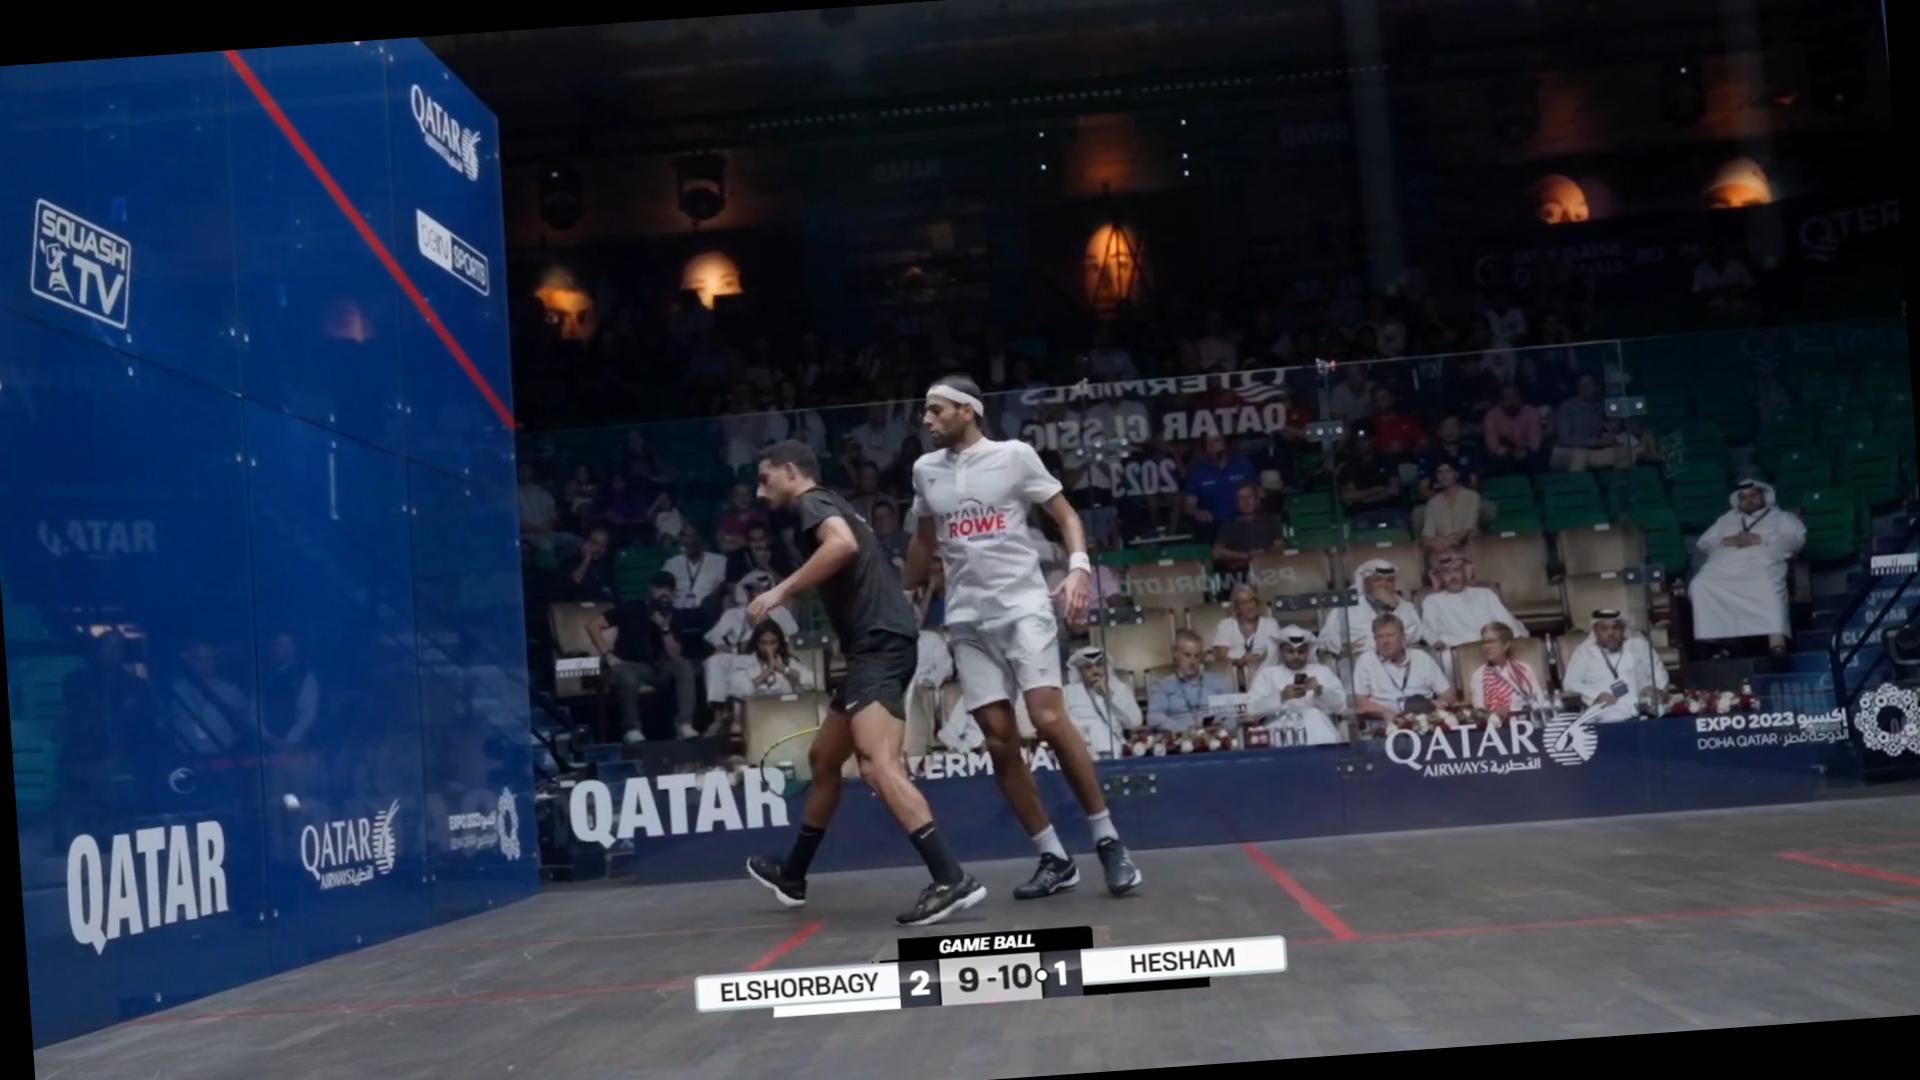Squash-Ball: (273, 775, 311, 827)
